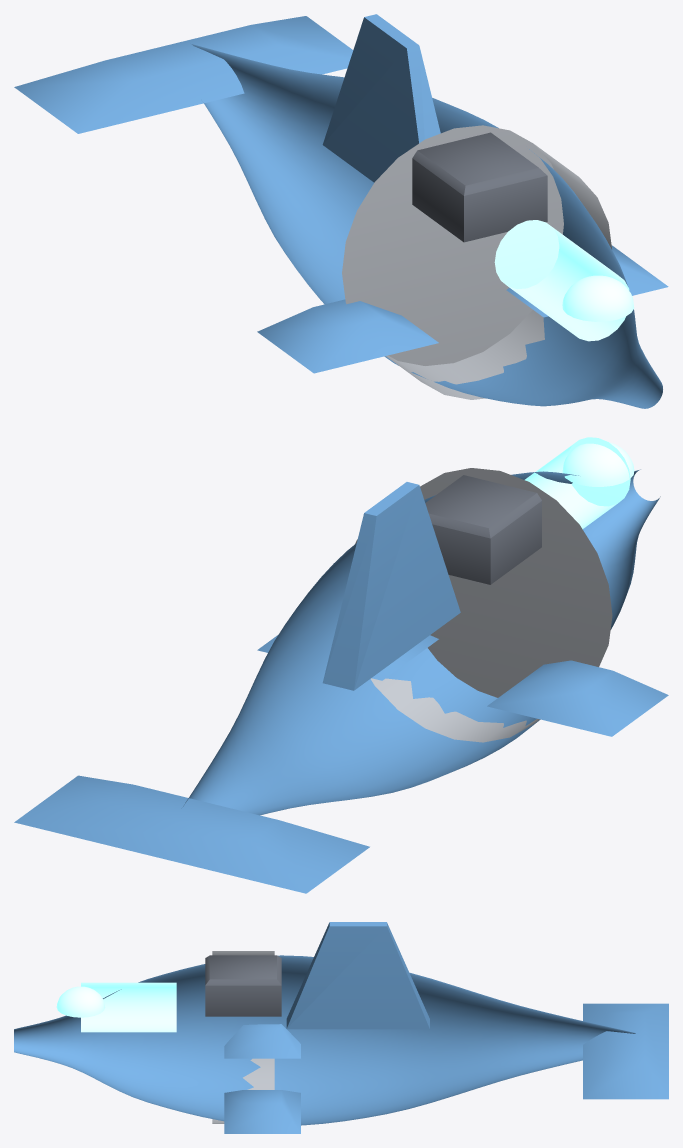
File: dlph.glb
The picture shows the model from 3 angles, top to bottom: view 1: azimuth 30°, elevation 25°; view 2: azimuth 150°, elevation 25°; view 3: azimuth 270°, elevation 25°; orthographic projection. The views are drawn at different scales.
Visible parts, largest first — view 1: Hull, Turret; view 2: Hull, Turret; view 3: Hull, Turret.
Boxes of the visible parts, bbox=[...] form: Hull: bbox=[14, 16, 668, 408]; Turret: bbox=[323, 14, 424, 143]; Hull: bbox=[14, 437, 668, 893]; Turret: bbox=[323, 482, 418, 689]; Hull: bbox=[14, 925, 668, 1133]; Turret: bbox=[287, 922, 426, 1028].
Bounding box in the file's own units: 0.748 × 0.5821 × 1.78.
